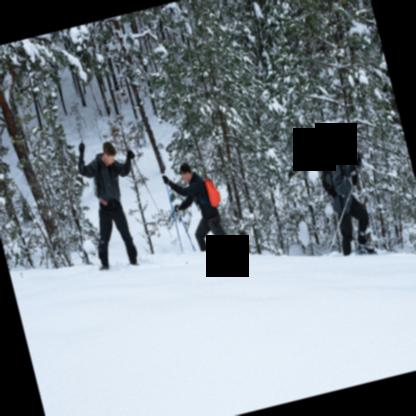backpack: (321, 151, 338, 199), (204, 178, 220, 209), (92, 179, 98, 199)
